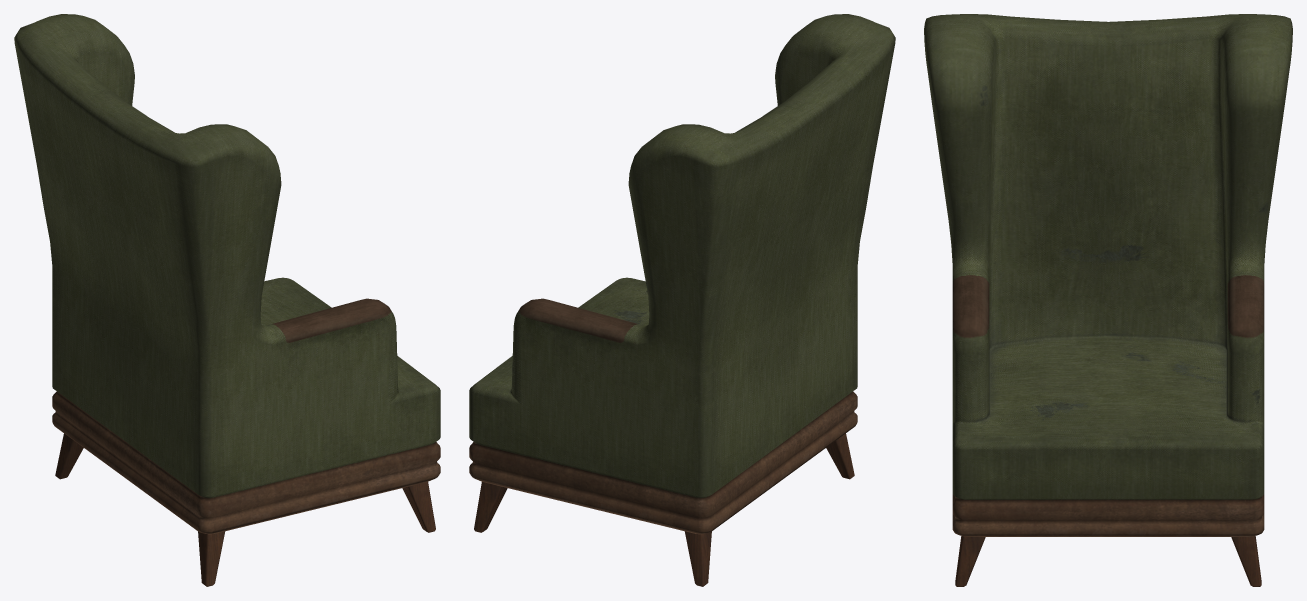
The model's file is obj_old_chair_6e35f6.glb.
3 views of the same model, side by side, from view 1: azimuth 30°, elevation 25°; view 2: azimuth 150°, elevation 25°; view 3: azimuth 270°, elevation 25° (orthographic).
Parts seen in each view (by area): view 1: obj_old_chair_6e35f6; view 2: obj_old_chair_6e35f6; view 3: obj_old_chair_6e35f6.
Part boxes in pixels (x1,y1,x2,y2): obj_old_chair_6e35f6: (14, 14, 440, 586); obj_old_chair_6e35f6: (469, 14, 895, 586); obj_old_chair_6e35f6: (924, 14, 1292, 586).
Bounding box in the file's own units: 0.544 × 0.85 × 0.623.
1 material, 1 textured.
